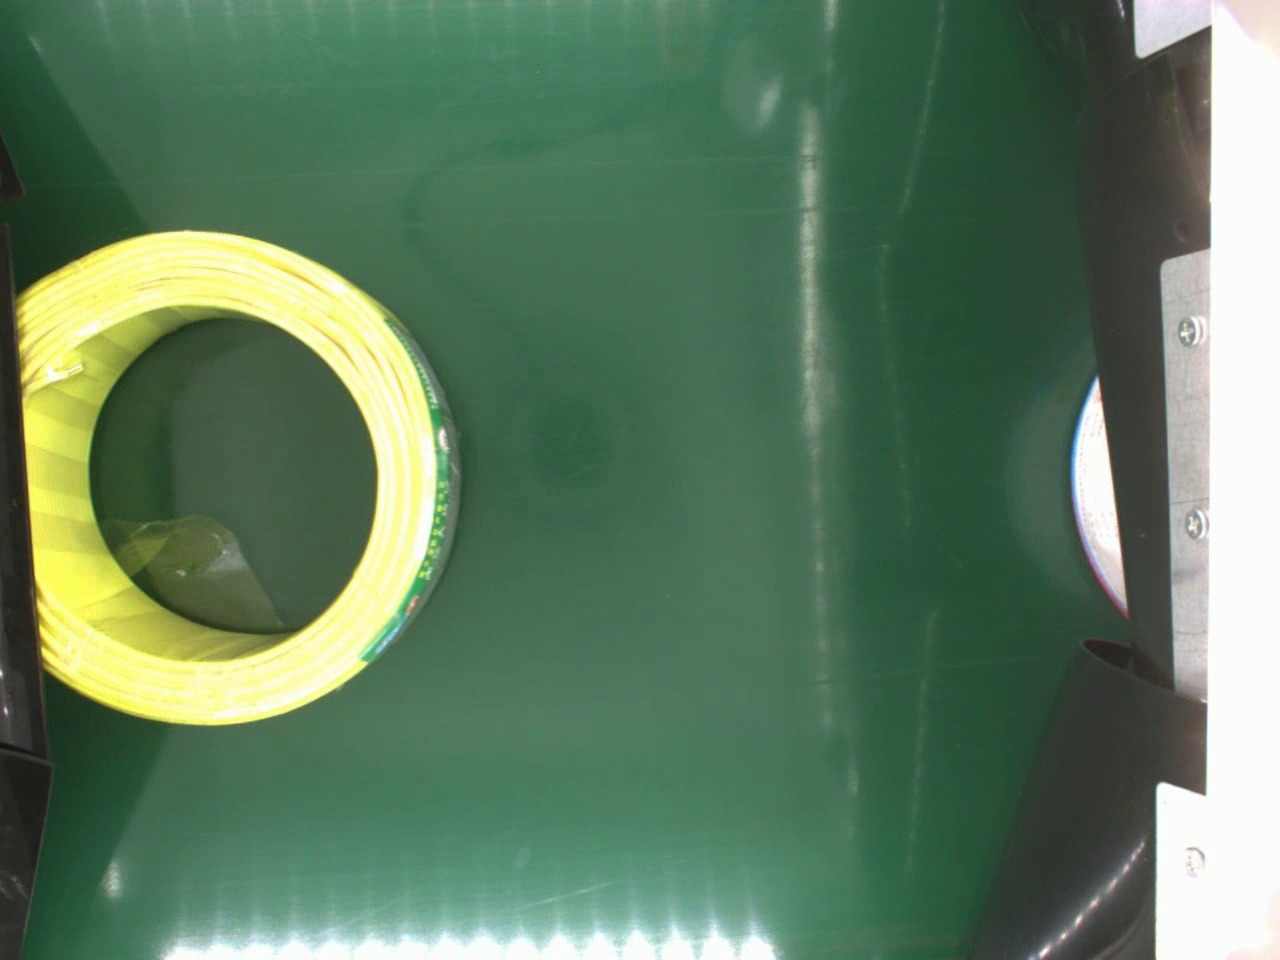yellow: (15, 227, 464, 732)
